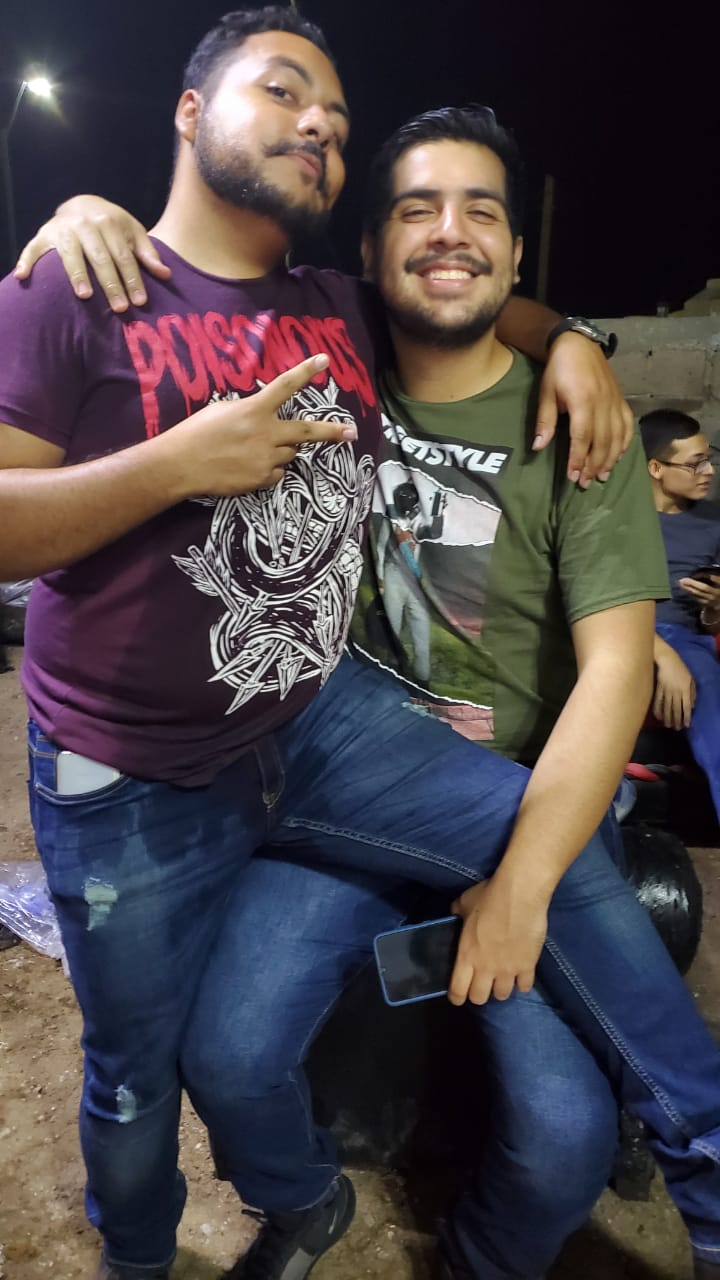Yoshi: (125, 17, 374, 334)
